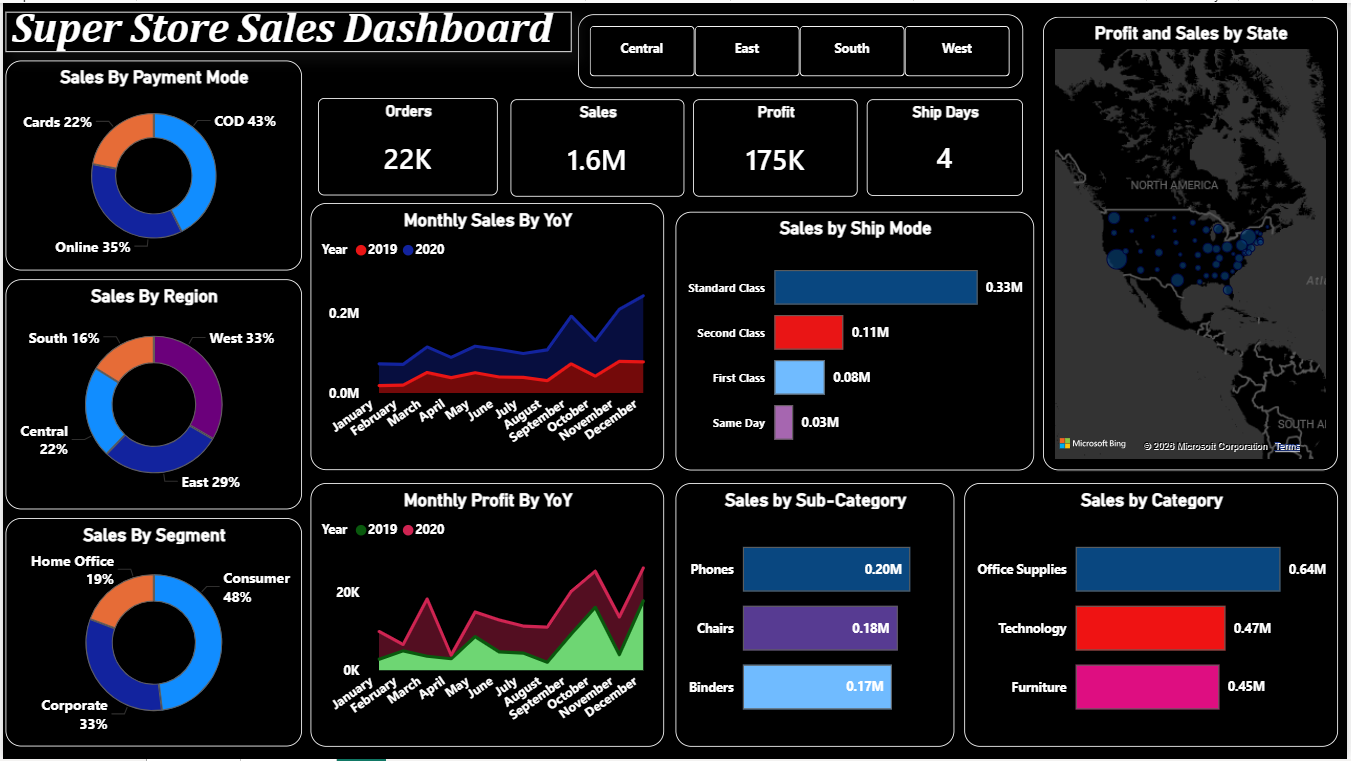

The page's visual inventory and layout, read from the dashboard file:
{"tool":"powerbi","page":{"name":"Sales Dashboard","canvas":[1280,720],"ordinal":0},"visuals":[{"type":"clusteredBarChart","title":"Sales by Category","fields":{"Category":["SuperStore_Sales_Dataset.Category"],"Y":["Sum(SuperStore_Sales_Dataset.Sales)"]},"box":[915.5,457.1,356,251.2],"z":0},{"type":"clusteredBarChart","title":"Sales by Sub-Category","fields":{"Y":["Sum(SuperStore_Sales_Dataset.Sales)"],"Category":["SuperStore_Sales_Dataset.Sub-Category"]},"box":[640.5,457.1,265.5,251.2],"z":1000},{"type":"clusteredBarChart","title":"Sales by Ship Mode ","fields":{"Y":["Sum(SuperStore_Sales_Dataset.Sales)"],"Category":["SuperStore_Sales_Dataset.Ship Mode"]},"box":[640.5,190.5,341.7,254.8],"z":2000},{"type":"stackedAreaChart","title":"Monthly Profit By YoY","fields":{"Category":["SuperStore_Sales_Dataset.Order Date.Variation.Date Hierarchy.Month","SuperStore_Sales_Dataset.Order Date.Variation.Date Hierarchy.Day"],"Series":["SuperStore_Sales_Dataset.Order Date.Variation.Date Hierarchy.Year"],"Y":["Sum(SuperStore_Sales_Dataset.Profit)"]},"box":[292.9,457.1,336.9,251.2],"z":3000},{"type":"stackedAreaChart","title":"Monthly Sales By YoY","fields":{"Category":["SuperStore_Sales_Dataset.Order Date.Variation.Date Hierarchy.Month","SuperStore_Sales_Dataset.Order Date.Variation.Date Hierarchy.Day"],"Y":["Sum(SuperStore_Sales_Dataset.Sales)"],"Series":["SuperStore_Sales_Dataset.Order Date.Variation.Date Hierarchy.Year"]},"box":[292.9,190.5,336.9,254.8],"z":4000},{"type":"donutChart","title":"Sales By Segment","fields":{"Category":["SuperStore_Sales_Dataset.Segment"],"Y":["Sum(SuperStore_Sales_Dataset.Sales)"]},"box":[2.4,490.5,282.1,217.9],"z":5000},{"type":"donutChart","title":"Sales By Region","fields":{"Y":["Sum(SuperStore_Sales_Dataset.Sales)"],"Category":["SuperStore_Sales_Dataset.Region"]},"box":[2.5,270,282.5,212.5],"z":6000},{"type":"advancedSlicerVisual","fields":{"Values":["SuperStore_Sales_Dataset.Region"]},"box":[547.6,10.7,423.8,70.2],"z":7000},{"type":"textbox","title":"Super Store Sales Dashboard ","box":[2.5,8.8,538.8,46.2],"z":8000},{"type":"map","title":"Profit and Sales by State","fields":{"Category":["SuperStore_Sales_Dataset.State"],"Size":["Sum(SuperStore_Sales_Dataset.Sales)"]},"box":[990.5,13.1,281,432.1],"z":9000},{"type":"cardVisual","title":"Sales ","fields":{"Data":["Sum(SuperStore_Sales_Dataset.Sales)"]},"box":[483.3,91.7,165.5,92.9],"z":10000},{"type":"cardVisual","title":"Profit","fields":{"Data":["Sum(SuperStore_Sales_Dataset.Profit)"]},"box":[657.1,91.7,157.1,92.9],"z":11000},{"type":"cardVisual","title":"Orders","fields":{"Data":["Sum(SuperStore_Sales_Dataset.Quantity)"]},"box":[300,90.5,171.4,92.9],"z":12000},{"type":"cardVisual","title":"Ship Days","fields":{"Data":["Avg(SuperStore_Sales_Dataset.AvgDelivery)"]},"box":[822.6,91.7,148.8,91.7],"z":14000},{"type":"donutChart","title":"Sales By Payment Mode","fields":{"Y":["Sum(SuperStore_Sales_Dataset.Sales)"],"Category":["SuperStore_Sales_Dataset.Payment Mode"]},"box":[2.5,71.2,282.5,188.8],"z":14001}]}

Visuals, with their boxes in screenshot pixels (x1, y1, x2, y2), scaled from the page's 1280x720 canvas onto the 1351x761 screenshot:
"Sales by Category" clusteredBarChart: x1=966, y1=483, x2=1342, y2=749
"Sales by Sub-Category" clusteredBarChart: x1=676, y1=483, x2=956, y2=749
"Sales by Ship Mode " clusteredBarChart: x1=676, y1=201, x2=1037, y2=471
"Monthly Profit By YoY" stackedAreaChart: x1=309, y1=483, x2=665, y2=749
"Monthly Sales By YoY" stackedAreaChart: x1=309, y1=201, x2=665, y2=471
"Sales By Segment" donutChart: x1=3, y1=518, x2=300, y2=749
"Sales By Region" donutChart: x1=3, y1=285, x2=301, y2=510
advancedSlicerVisual - SuperStore_Sales_Dataset.Region: x1=578, y1=11, x2=1025, y2=86
"Super Store Sales Dashboard " textbox: x1=3, y1=9, x2=571, y2=58
"Profit and Sales by State" map: x1=1045, y1=14, x2=1342, y2=471
"Sales " cardVisual: x1=510, y1=97, x2=685, y2=195
"Profit" cardVisual: x1=694, y1=97, x2=859, y2=195
"Orders" cardVisual: x1=317, y1=96, x2=498, y2=194
"Ship Days" cardVisual: x1=868, y1=97, x2=1025, y2=194
"Sales By Payment Mode" donutChart: x1=3, y1=75, x2=301, y2=275
